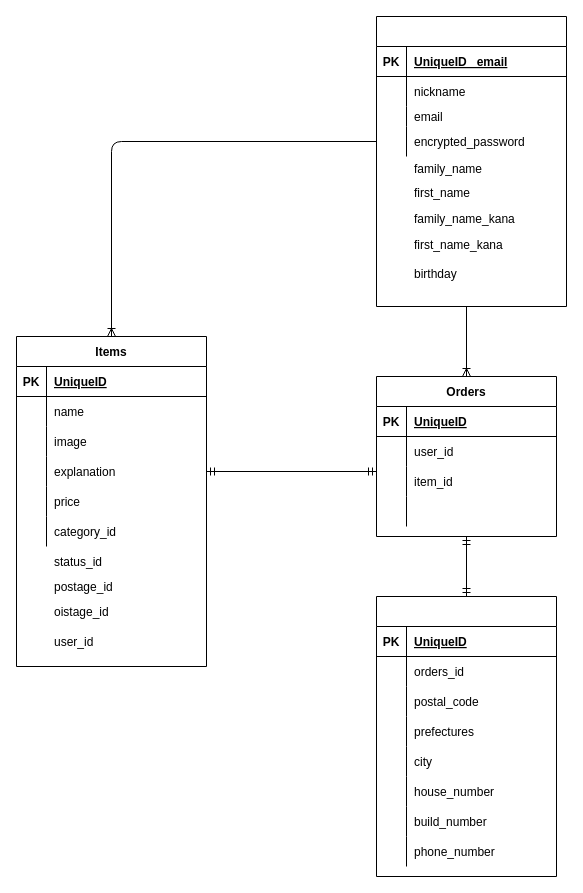
Image size: 583x893. Some labels were removed from this diagram. The box of each missing label's shape, as (x1, y1, x2, y2) in pixels:
Deliverys: (376, 596, 556, 876)
Users: (376, 16, 566, 306)
